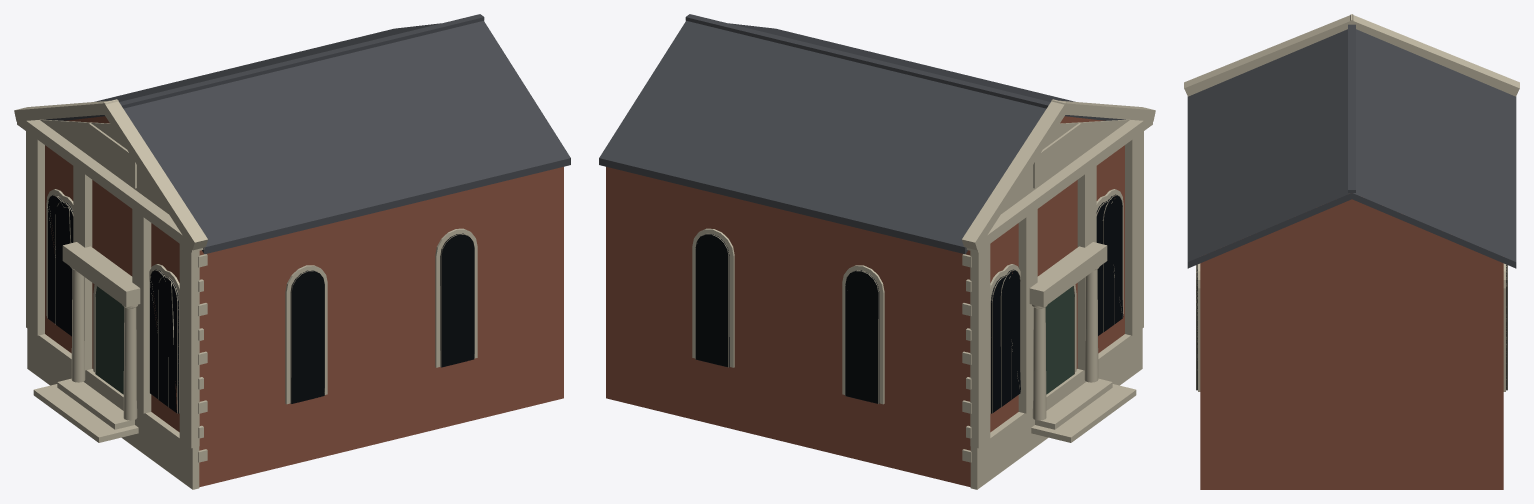
Rendered from context.church.ea_methodist.glb.
3 views of the same model, side by side, from view 1: azimuth 30°, elevation 25°; view 2: azimuth 150°, elevation 25°; view 3: azimuth 270°, elevation 25° (orthographic). The views are drawn at different scales.
Parts seen in each view (by area): view 1: main__stone_854, main__clad_455, main__stone_cba, main__glass_dark, main__timber_344, main__stone_987; view 2: main__stone_854, main__clad_455, main__stone_cba, main__glass_dark, main__timber_344, main__stone_987; view 3: main__stone_854, main__clad_455, main__stone_cba, main__stone_987, main__glass_dark.
Part boxes in pixels (left/top/right/bottom): main__stone_854: left=45, top=116, right=563, bottom=487; main__clad_455: left=44, top=14, right=570, bottom=254; main__stone_cba: left=14, top=99, right=477, bottom=489; main__glass_dark: left=47, top=195, right=474, bottom=413; main__timber_344: left=95, top=286, right=124, bottom=394; main__stone_987: left=47, top=195, right=474, bottom=413; main__stone_854: left=606, top=116, right=1124, bottom=487; main__clad_455: left=599, top=14, right=1125, bottom=254; main__stone_cba: left=692, top=99, right=1155, bottom=489; main__glass_dark: left=695, top=194, right=1123, bottom=413; main__timber_344: left=1045, top=286, right=1074, bottom=394; main__stone_987: left=695, top=195, right=1122, bottom=413; main__stone_854: left=1200, top=199, right=1503, bottom=489; main__clad_455: left=1187, top=24, right=1516, bottom=268; main__stone_cba: left=1184, top=14, right=1519, bottom=391; main__stone_987: left=1196, top=264, right=1507, bottom=390; main__glass_dark: left=1196, top=265, right=1507, bottom=390.
Size of the model in its own units: 12.5 by 9.41 by 9.4.
